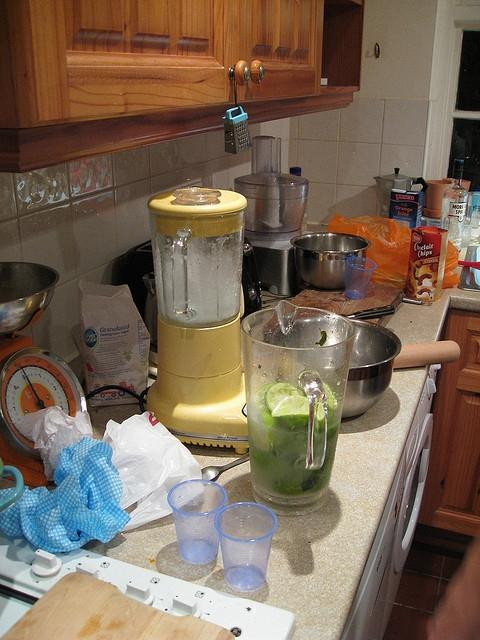lime: (247, 409, 287, 452), (272, 395, 310, 430), (265, 382, 302, 414), (317, 382, 338, 428), (252, 449, 287, 473), (274, 468, 314, 486), (254, 382, 276, 412), (327, 418, 341, 443)
